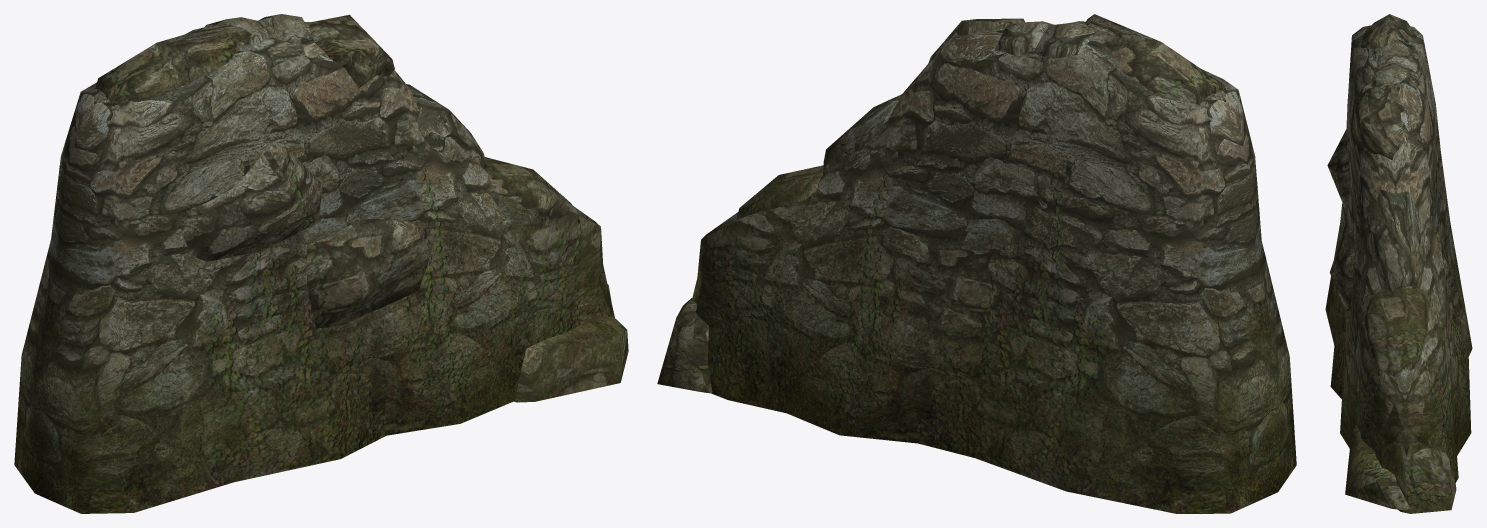
Rendered from StoneWall02.FBX.
3 renders of one model, left to right at view 1: azimuth 30°, elevation 25°; view 2: azimuth 150°, elevation 25°; view 3: azimuth 270°, elevation 25°, orthographic. The views are drawn at different scales.
Parts seen in each view (by area): view 1: ASE_CM_Vill_Stonewall06_SM; view 2: ASE_CM_Vill_Stonewall06_SM; view 3: ASE_CM_Vill_Stonewall06_SM.
Part boxes in pixels (x1,y1,x2,y2): ASE_CM_Vill_Stonewall06_SM: [14, 14, 628, 513]; ASE_CM_Vill_Stonewall06_SM: [657, 14, 1296, 513]; ASE_CM_Vill_Stonewall06_SM: [1325, 14, 1472, 513].
Bounding box in the file's own units: 114 × 79.16 × 32.28.
